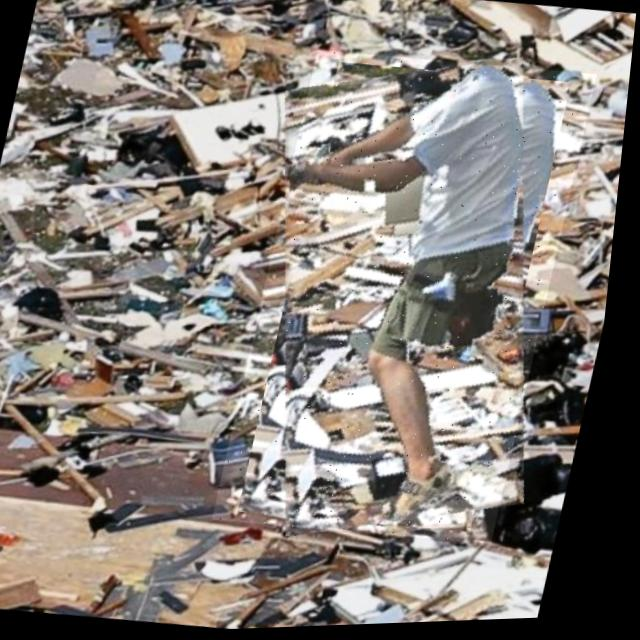Person in Rubble: (221, 44, 601, 556)
